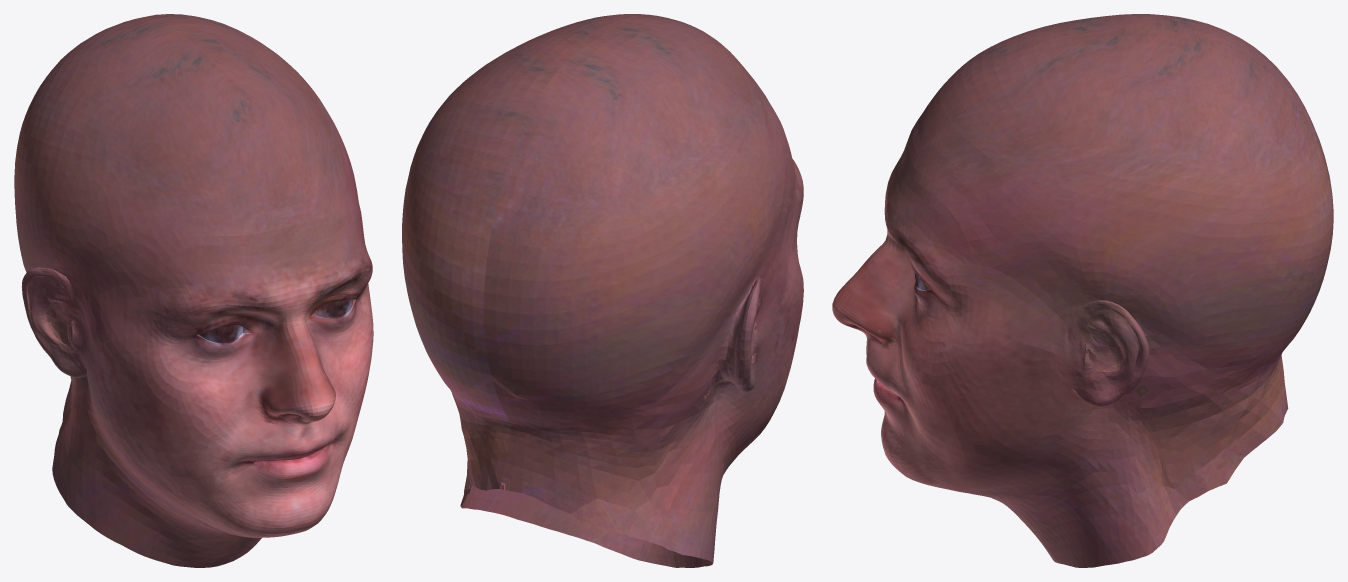
Rendered from result_concrete.obj.
3 renders of one model, left to right at view 1: azimuth 30°, elevation 25°; view 2: azimuth 150°, elevation 25°; view 3: azimuth 270°, elevation 25°, orthographic. The views are drawn at different scales.
Bounding box in the file's own units: 201 × 308 × 267.
